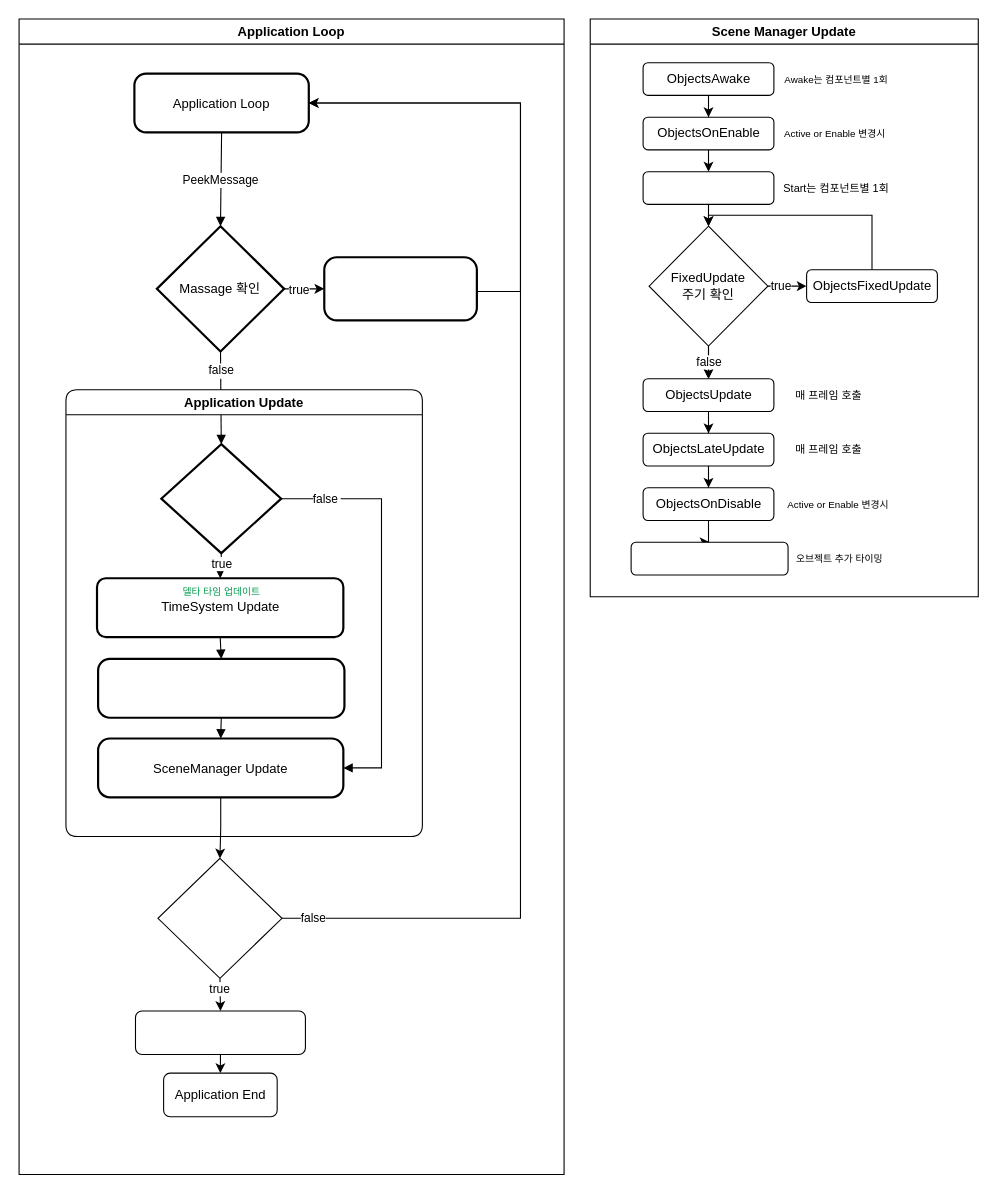
This 997x1194 diagram has some shape labels left out. The shapes that lost their labels are listed below. From the top down, each one's centre as x and y in pixels, then its label:
At [708,187]: "ObjectsStart".
At [400,288]: "MessagePump 실행".
At [221,498]: "Is Editor".
At [709,558]: "ObjectsAddToLifeCycle".
At [220,687]: "EditorManager Update".
At [219,917]: "Application .Quit".
At [219,1032]: "SceneManager Cleanup".
